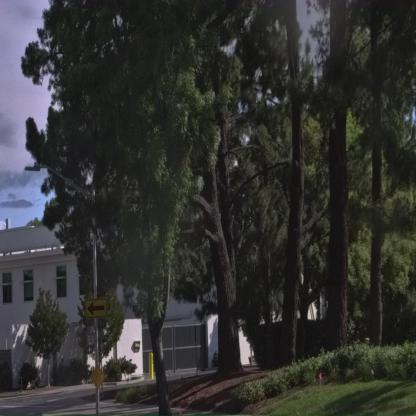sign: (84, 295, 112, 317), (90, 363, 106, 387)
